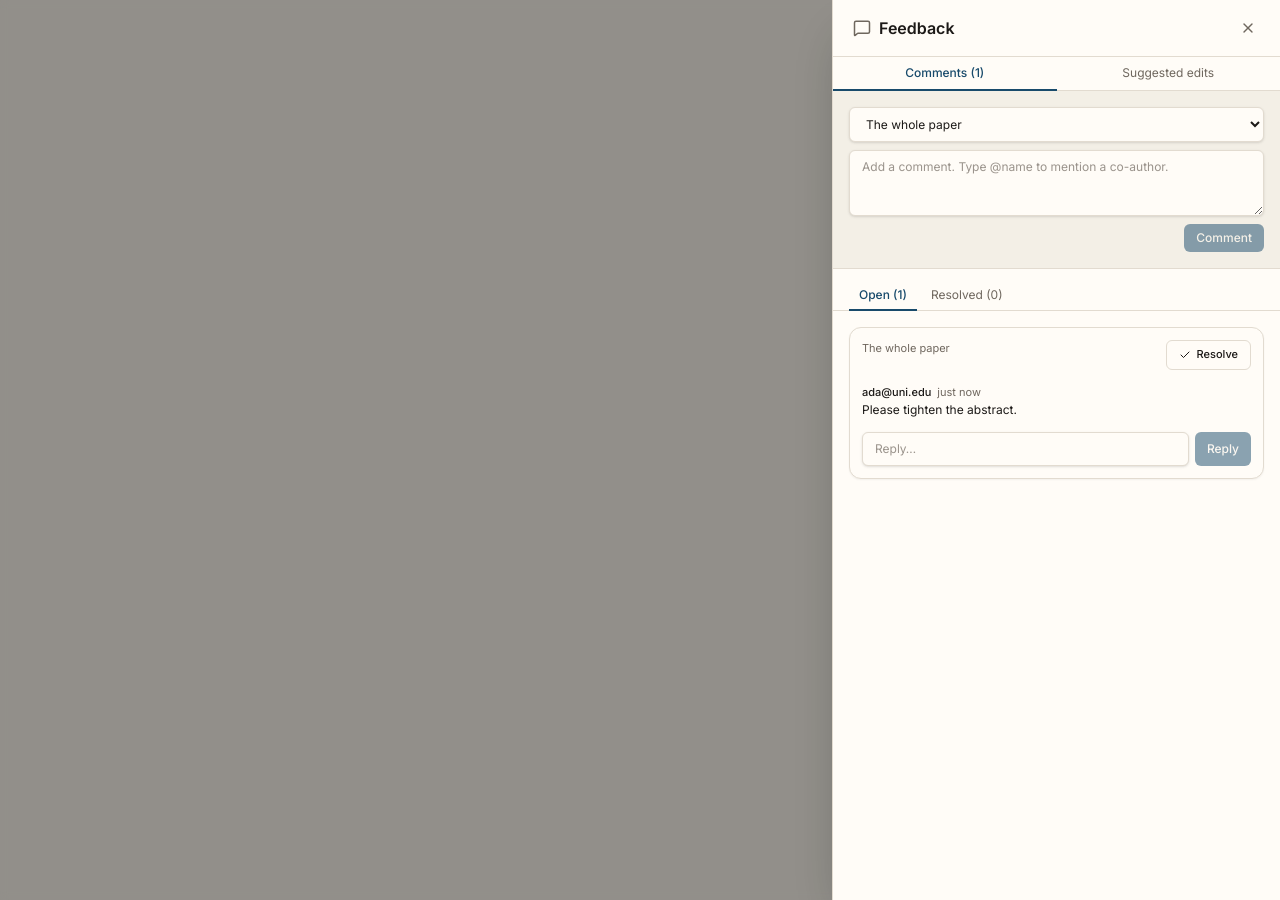
Test case: CommentsPanel › moves a resolved thread to the Resolved tab
The width and height of the screenshot is (1280, 900).
Check: the text "ada@uni.edu" is shown, box [862,384,931,400]
Click the button "Resolve": click(1208, 355) [1166,340,1251,370]
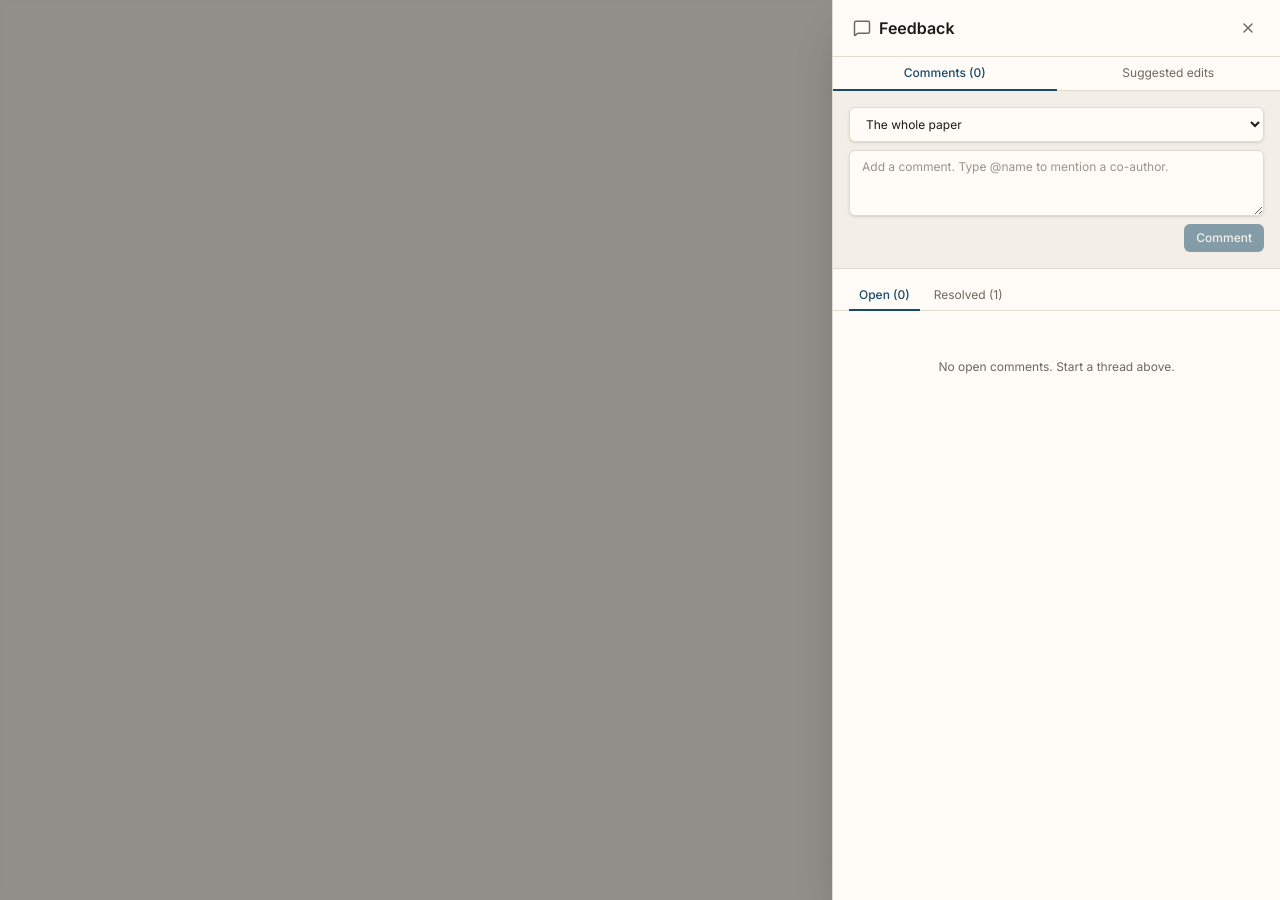
Check: the text "No open comments. Start a thread above." is shown, box [938,359,1175,374]
Click the tab "Resolved (1)": click(968, 296) [924,281,1013,311]
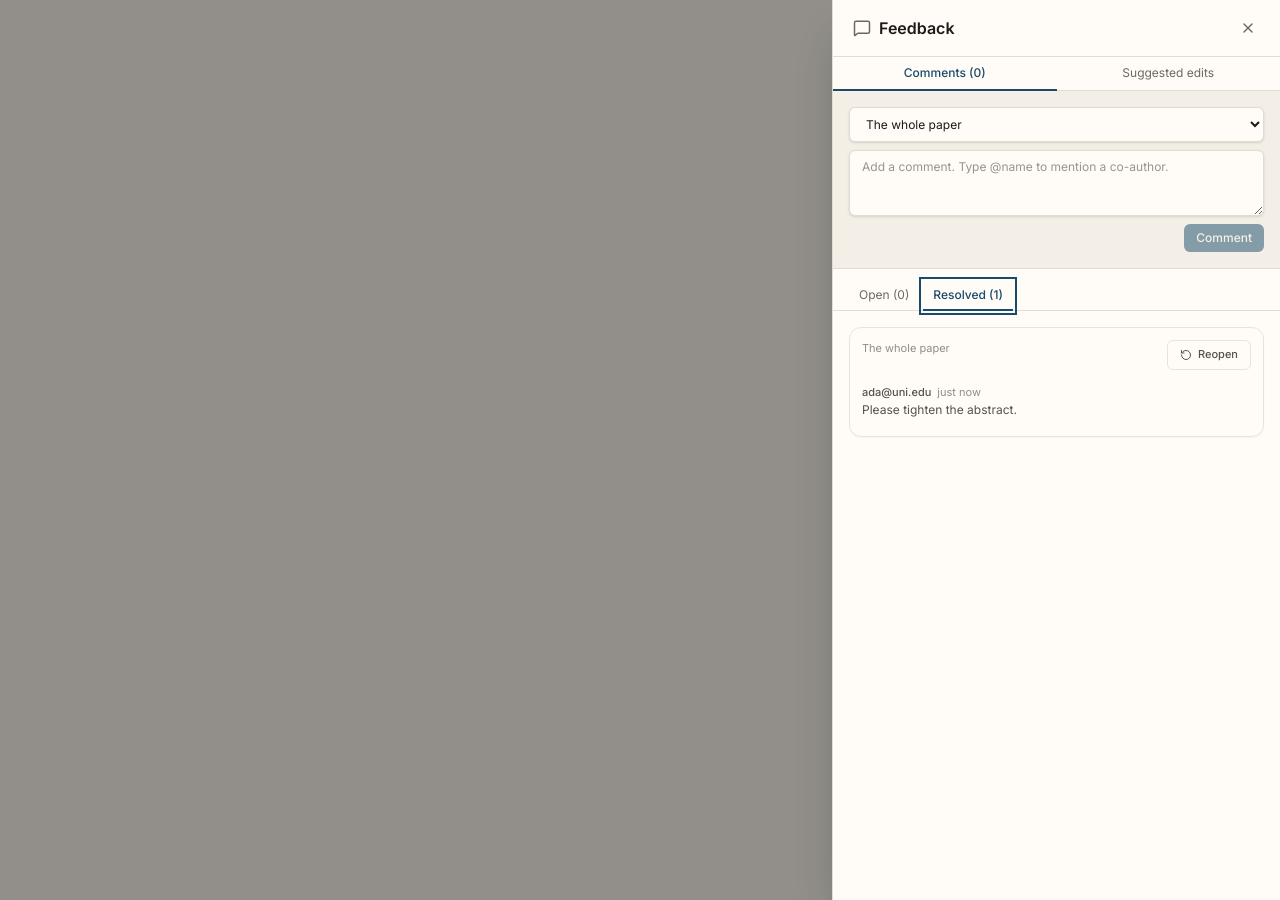
Check: the text "Please tighten the abstract." is shown, box [862,402,1017,417]
Check: the button "Reopen" is shown, box [1167,340,1251,370]
